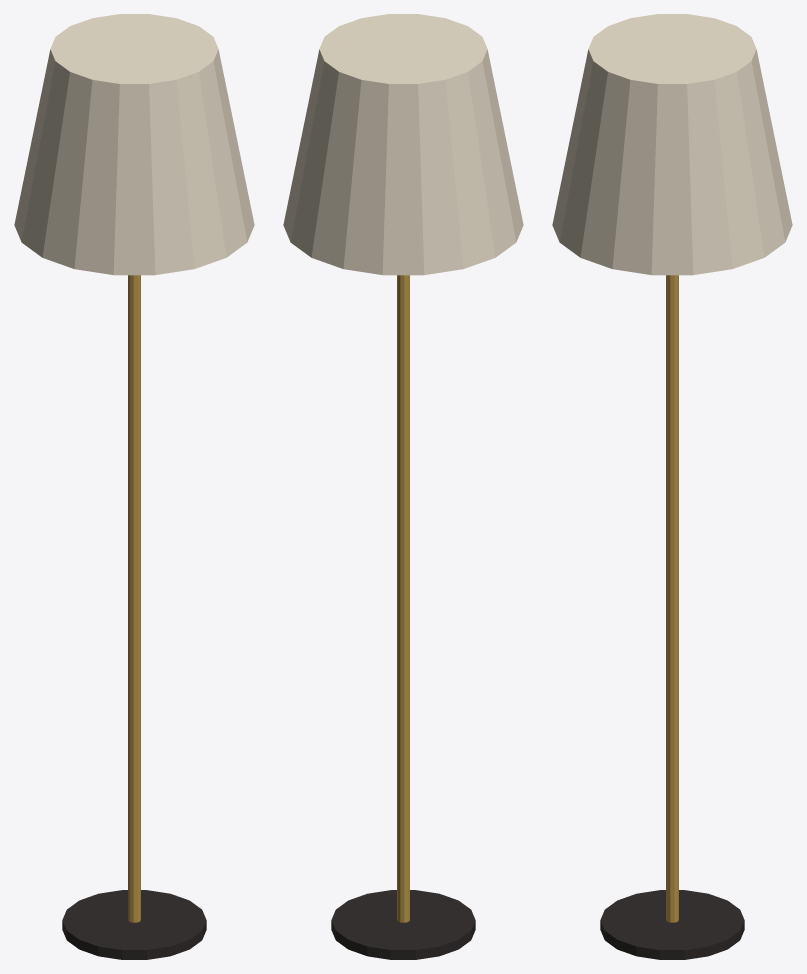
File: hh_floor_lamp.glb
3 renders of one model, left to right at view 1: azimuth 30°, elevation 25°; view 2: azimuth 150°, elevation 25°; view 3: azimuth 270°, elevation 25°, orthographic.
Parts seen in each view (by area): view 1: shade, pole, base; view 2: shade, pole, base; view 3: shade, pole, base.
Part boxes in pixels (x1,y1,x2,y2): shade: [14, 14, 254, 275]; pole: [128, 275, 140, 922]; base: [62, 890, 206, 959]; shade: [283, 14, 523, 275]; pole: [397, 275, 409, 922]; base: [331, 890, 475, 959]; shade: [552, 14, 792, 275]; pole: [666, 275, 678, 922]; base: [600, 890, 744, 959].
Bounding box in the file's own units: 0.4333 × 1.78 × 0.44.
